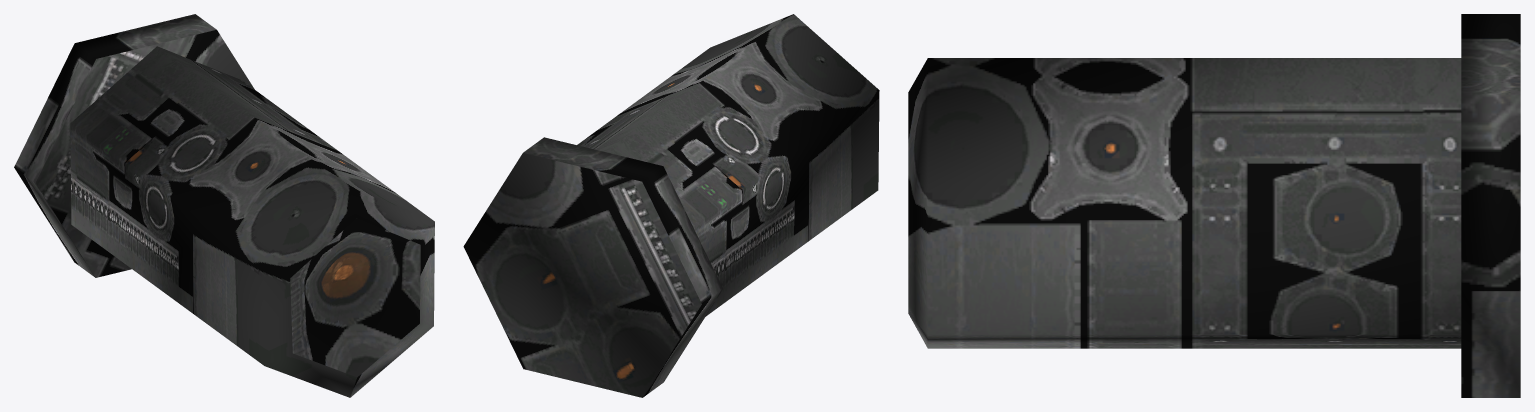
Rendered from Sniper_Rifle_jjq_qt_01_Stock_Main_(000201).glb.
3 renders of one model, left to right at view 1: azimuth 30°, elevation 25°; view 2: azimuth 150°, elevation 25°; view 3: azimuth 270°, elevation 25°, orthographic. The views are drawn at different scales.
Visible parts, largest first — view 1: jjq_qt_01; view 2: jjq_qt_01; view 3: jjq_qt_01.
Part boxes in pixels (<box>): jjq_qt_01: <box>14,14,434,397</box>; jjq_qt_01: <box>463,14,879,397</box>; jjq_qt_01: <box>908,14,1520,397</box>.
Bounding box in the file's own units: 0.0538 × 0.0467 × 0.0855.
1 material, 1 textured.
